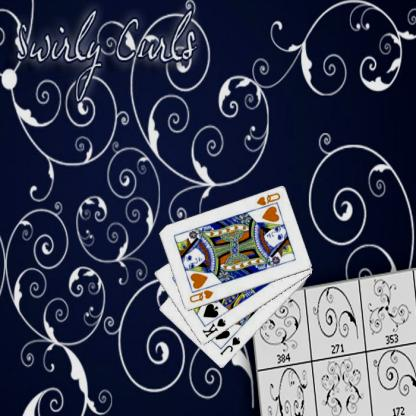JS: (217, 334, 242, 357)
KS: (200, 316, 227, 340)
QH: (252, 190, 282, 212), (186, 288, 214, 304)
